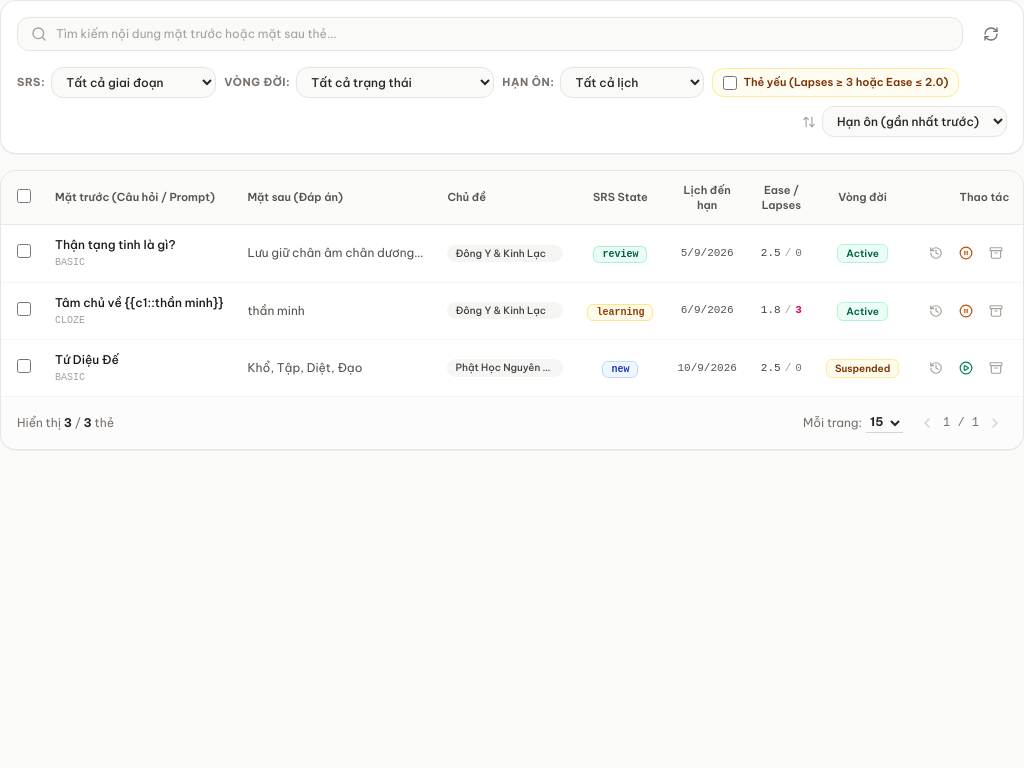
Scenario: Phase F6.5 — Card Browser Component (CardBrowser.tsx) › 5. clicking 'Select All' selects all visible cards
Click the checkbox with test id "checkbox-select-all": (24, 196) [17,189,31,203]
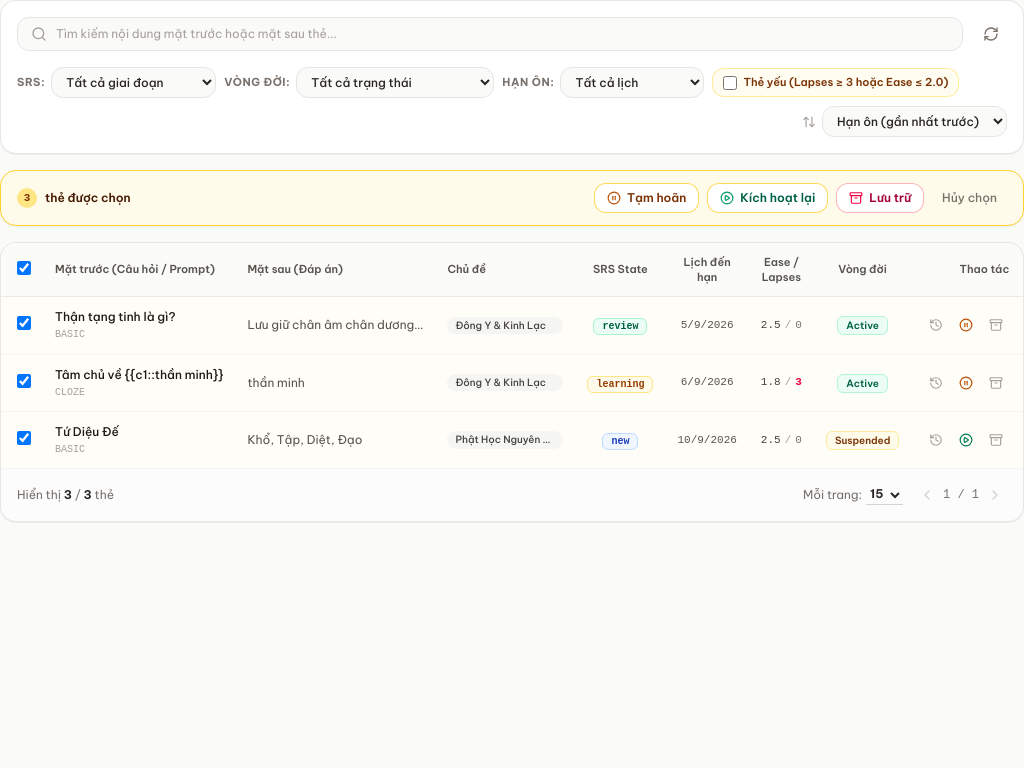
Now the element with test id "bulk-action-bar" is shown, box [0,170,1023,226]
Now the text with test id "bulk-selected-count" reads "3", box [24,192,30,204]
